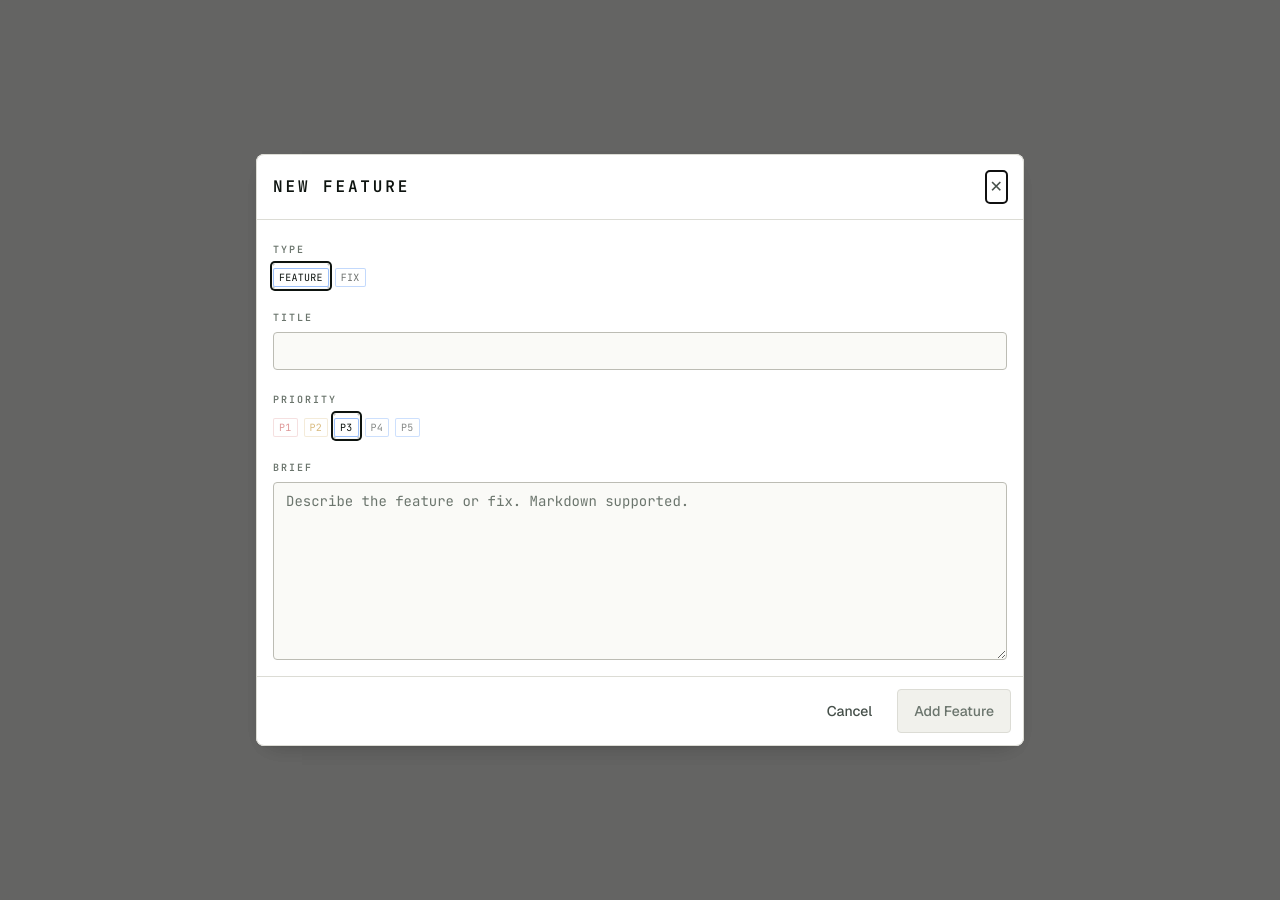
Scenario: FeatureForm — type toggle › clicking Fix changes heading to 'New Fix'
"Fix" is the second button in the Type FormField label → accessible name "Fix"
Step 1. Click the button "Fix" → (350,276), box 335,264 -> 366,288
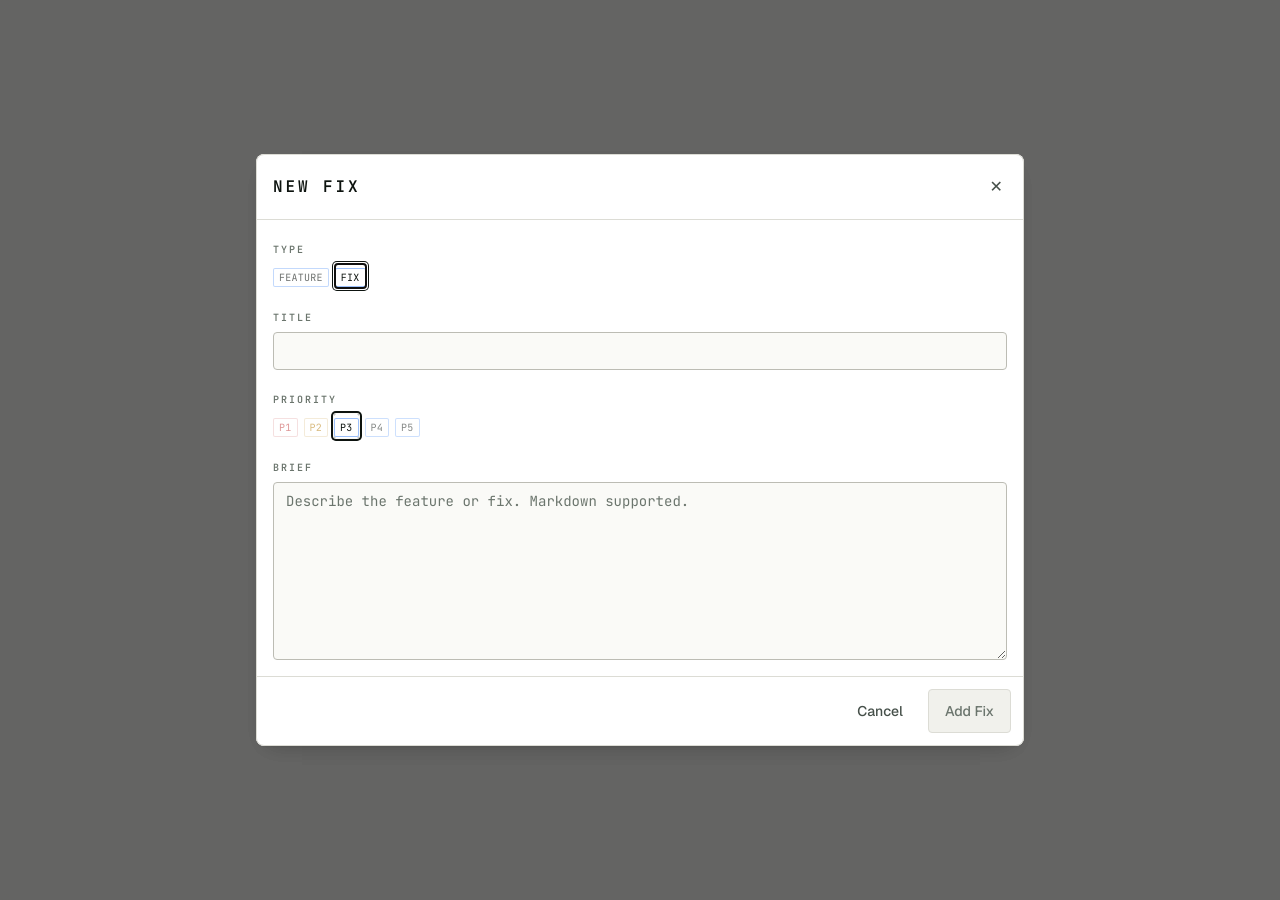
Expected: the heading "New Fix" is shown, 273,175 -> 360,199
